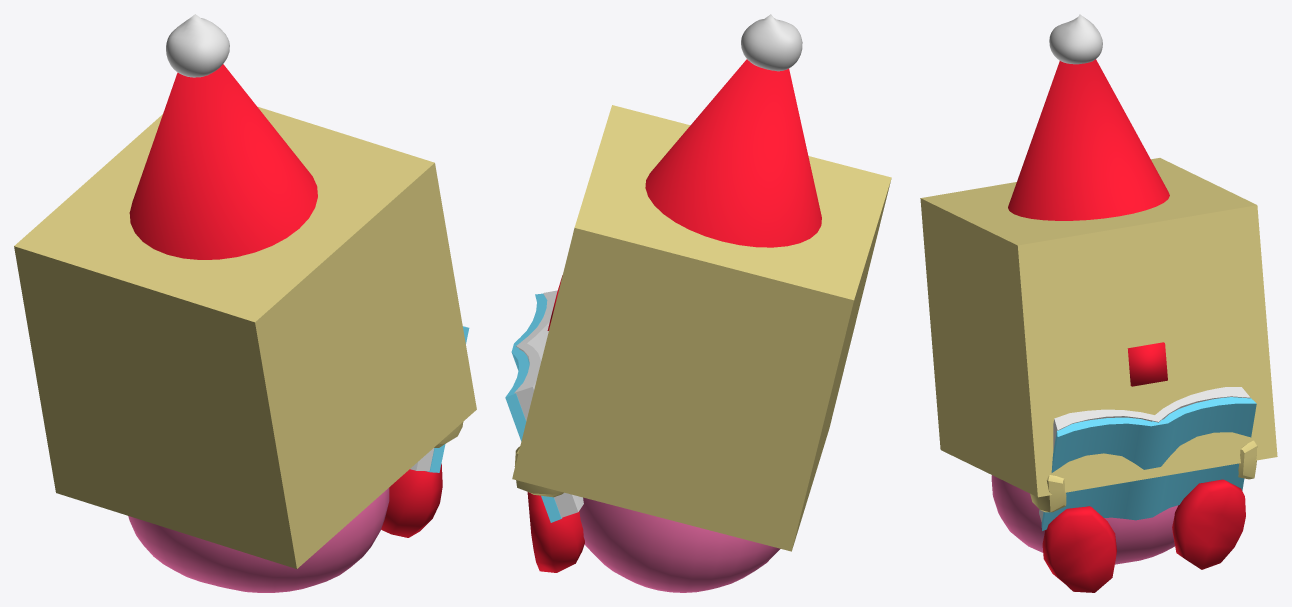
Rendered from EXERCISE1.gltf.
3 renders of one model, left to right at view 1: azimuth 30°, elevation 25°; view 2: azimuth 150°, elevation 25°; view 3: azimuth 270°, elevation 25°, orthographic. The views are drawn at different scales.
Visible parts, largest first — view 1: Cube.022, Cone, Sphere, Cube.024, Cube.026; view 2: Cube.022, Cone, Sphere, Cube.023, Cube.026, Plane.001, Plane.002; view 3: Cube.022, Cone, Plane.002, Cube.024, Cube.023, Sphere, Plane.001, Cube.026, Cone.003, Plane.004.
Boxes of the visible parts, left/top/right/bottom form: Cube.022: left=14, top=106, right=476, bottom=568; Cone: left=129, top=64, right=317, bottom=259; Sphere: left=128, top=487, right=389, bottom=592; Cube.024: left=381, top=463, right=442, bottom=537; Cube.026: left=166, top=14, right=229, bottom=77; Cube.022: left=512, top=105, right=891, bottom=551; Cone: left=645, top=59, right=821, bottom=247; Sphere: left=579, top=497, right=780, bottom=592; Cube.023: left=527, top=492, right=584, bottom=572; Cube.026: left=741, top=14, right=802, bottom=71; Plane.001: left=514, top=290, right=583, bottom=517; Plane.002: left=505, top=293, right=561, bottom=522; Cube.022: left=920, top=158, right=1277, bottom=497; Cone: left=1008, top=59, right=1169, bottom=220; Plane.002: left=1041, top=397, right=1256, bottom=530; Cube.024: left=1042, top=506, right=1116, bottom=592; Cube.023: left=1172, top=479, right=1245, bottom=569; Sphere: left=991, top=475, right=1178, bottom=564; Plane.001: left=1039, top=387, right=1250, bottom=521; Cube.026: left=1049, top=14, right=1102, bottom=64; Cone.003: left=1127, top=342, right=1167, bottom=386; Plane.004: left=1030, top=440, right=1257, bottom=512.
Size of the model in its own units: 0.8357 by 1.2 by 0.7652.
